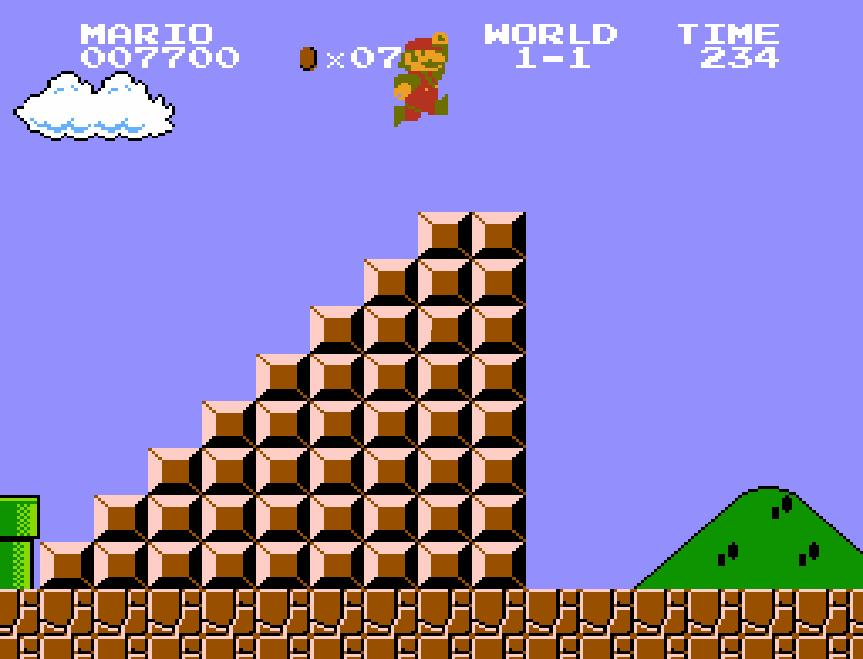big_mario: (392, 30, 450, 128)
